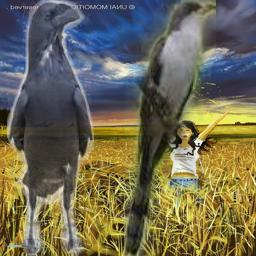Crow: (7, 0, 94, 256)
Cuckoo: (124, 0, 216, 256)
